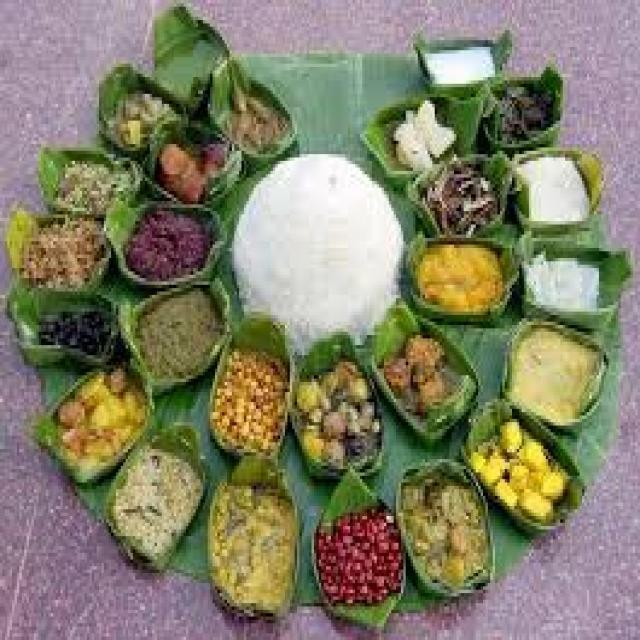dal: (503, 326, 610, 420), (129, 285, 224, 380)
pickle: (122, 208, 219, 289)
raita: (515, 151, 603, 232)
rice: (229, 155, 407, 338)
veg-fry: (401, 460, 494, 596)
